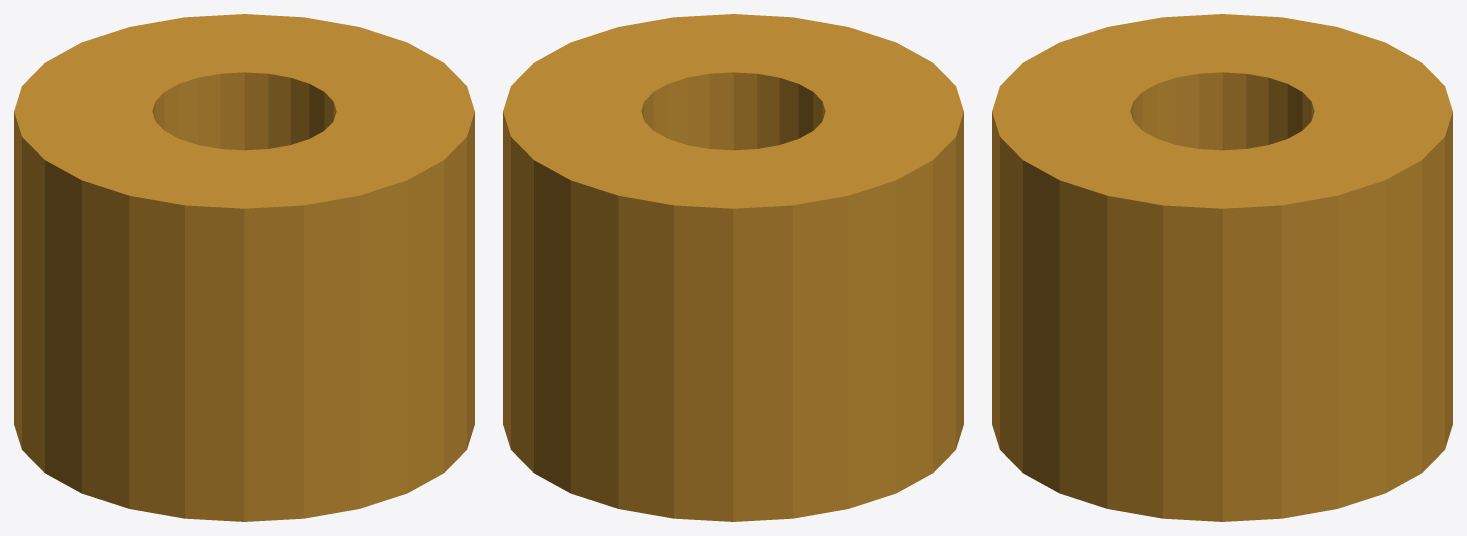
File: L32_M2_1_STANDOFF.fbx
3 renders of one model, left to right at view 1: azimuth 30°, elevation 25°; view 2: azimuth 150°, elevation 25°; view 3: azimuth 270°, elevation 25°, orthographic.
Parts seen in each view (by area): view 1: M2_1_STANDOFF_Gold; view 2: M2_1_STANDOFF_Gold; view 3: M2_1_STANDOFF_Gold.
Part boxes in pixels (bbox=[...]): M2_1_STANDOFF_Gold: bbox=[14, 14, 474, 521]; M2_1_STANDOFF_Gold: bbox=[503, 14, 963, 521]; M2_1_STANDOFF_Gold: bbox=[992, 14, 1452, 521].
Bounding box in the file's own units: 0.4 × 0.3 × 0.4.
